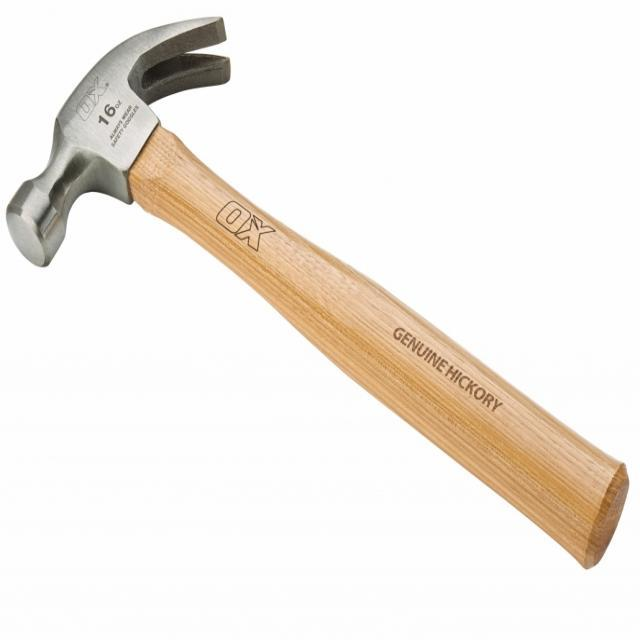hammer: (0, 9, 630, 576)
